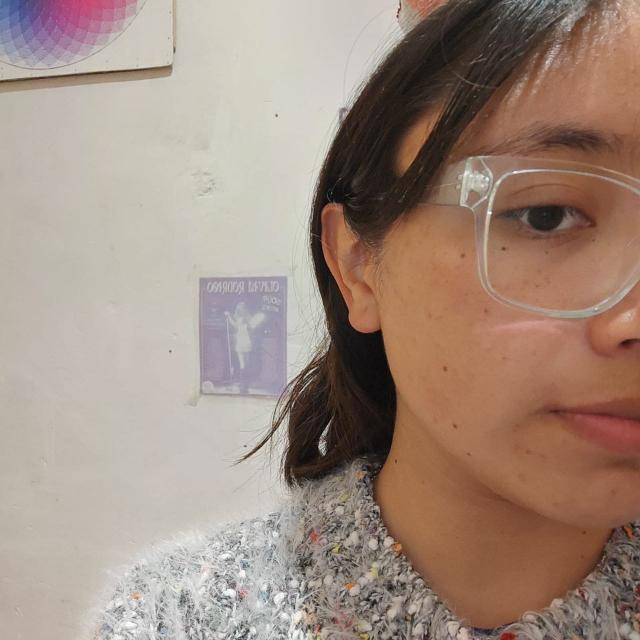ear: (322, 204, 381, 333)
